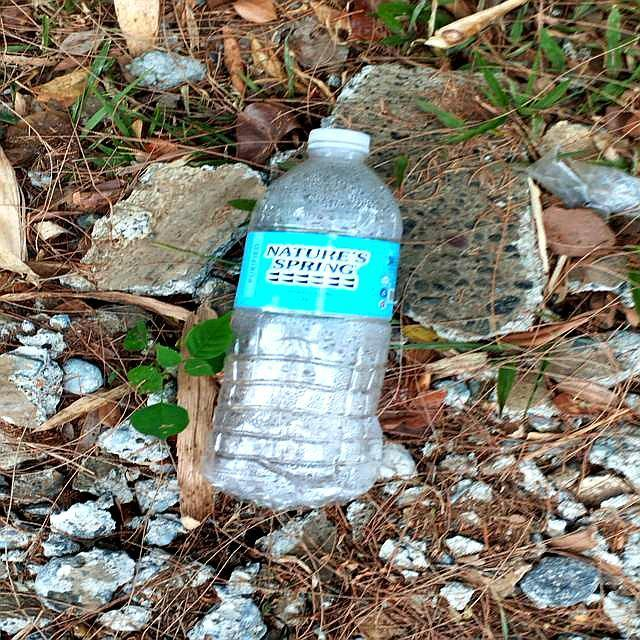Non-biodegradable: (221, 125, 399, 507)
